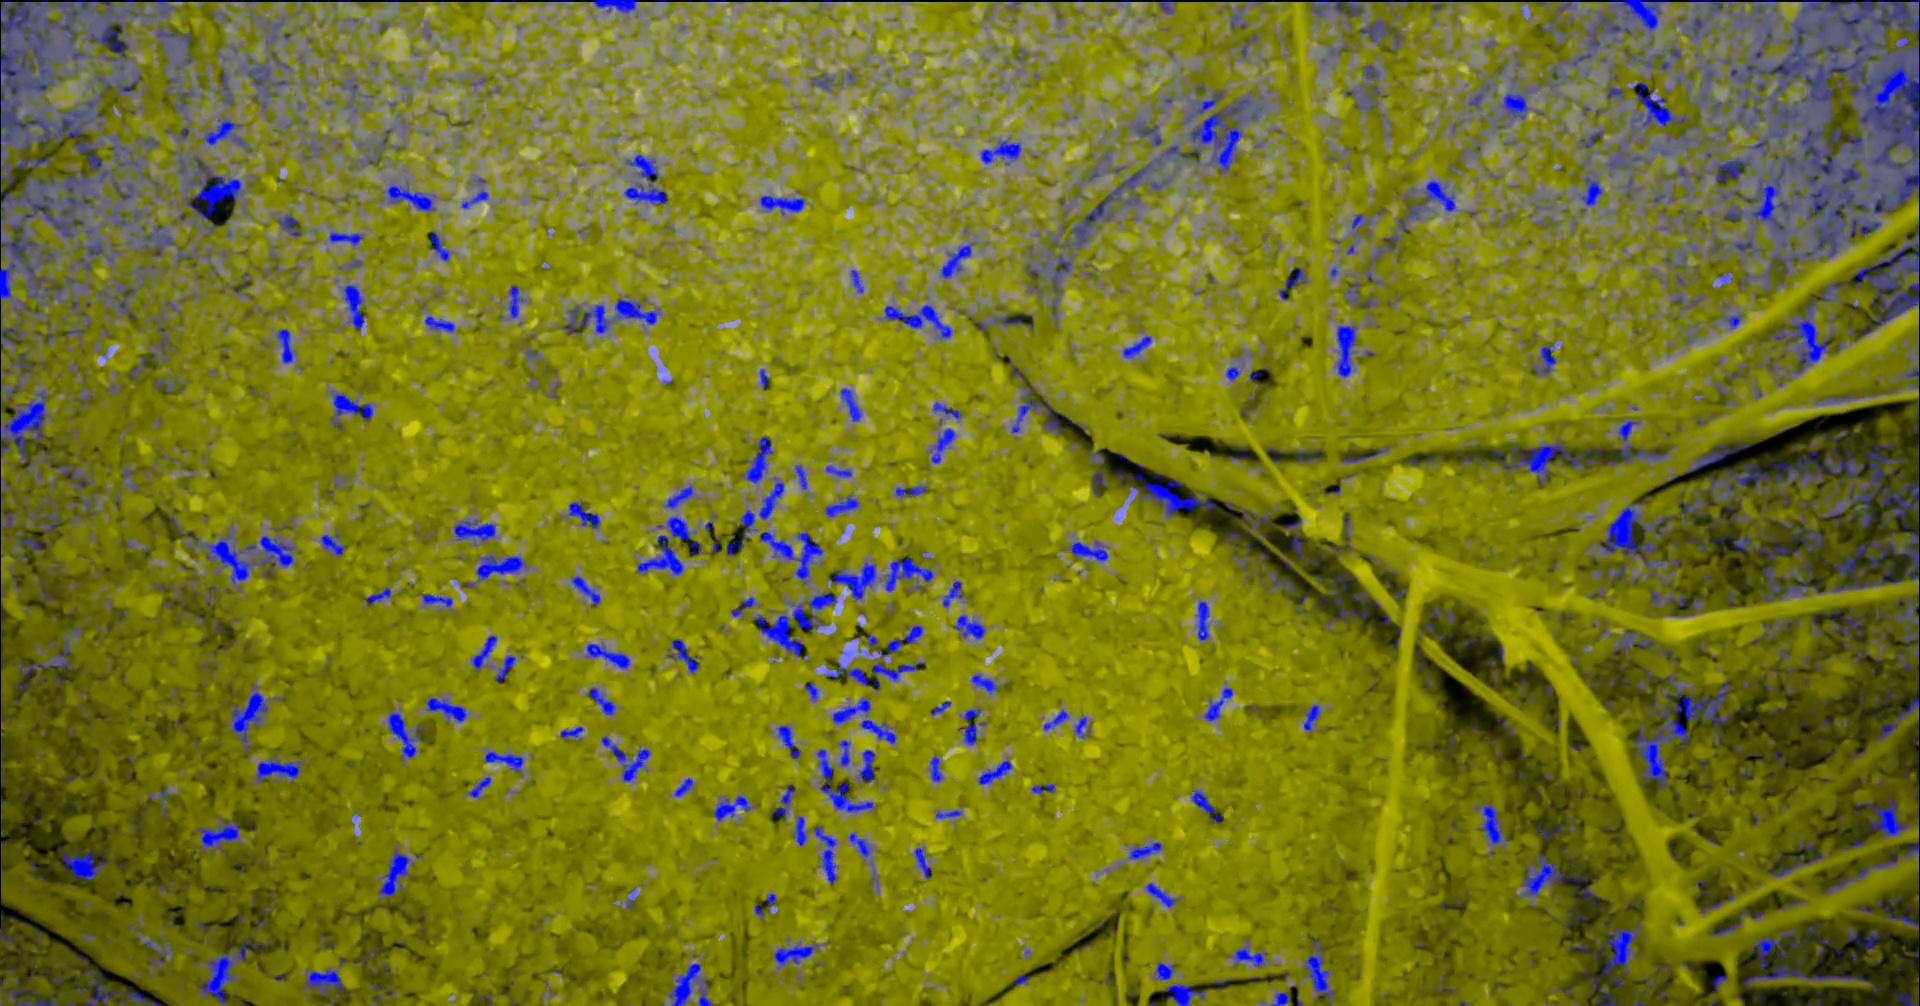ant: (1821, 838, 1919, 894), (1007, 354, 1065, 434), (725, 478, 783, 555), (0, 478, 53, 561), (230, 683, 284, 757), (72, 140, 133, 199), (817, 748, 874, 812), (1873, 592, 1919, 671), (1599, 418, 1674, 465), (15, 625, 83, 677), (759, 531, 823, 583), (825, 658, 924, 690), (72, 969, 160, 1005), (1397, 180, 1457, 231), (830, 697, 897, 743), (1768, 833, 1829, 876), (1629, 83, 1688, 127), (883, 304, 952, 339), (599, 735, 650, 781), (1854, 796, 1911, 837), (1611, 627, 1677, 662), (623, 152, 667, 205), (1304, 937, 1335, 1005), (466, 553, 526, 587), (1323, 570, 1357, 630), (1873, 696, 1919, 741), (1683, 442, 1749, 473), (1683, 0, 1733, 39), (387, 709, 427, 760), (378, 848, 413, 906), (248, 58, 287, 108), (668, 962, 712, 1005), (1821, 608, 1868, 649), (0, 973, 57, 1005), (194, 815, 240, 855), (331, 390, 373, 431), (202, 118, 251, 152), (19, 494, 61, 533), (1787, 513, 1827, 553), (382, 182, 436, 211), (740, 434, 772, 483), (561, 304, 611, 334), (62, 848, 109, 880), (156, 27, 192, 69), (877, 624, 922, 657), (1357, 19, 1403, 51), (130, 225, 175, 257), (1183, 89, 1224, 123), (1476, 801, 1509, 843), (813, 826, 837, 883), (257, 753, 303, 782), (1876, 897, 1919, 929), (302, 967, 345, 998), (1050, 254, 1070, 319), (1578, 969, 1615, 1005), (150, 311, 177, 359), (613, 296, 659, 324), (1697, 61, 1721, 113), (665, 638, 700, 673), (1539, 0, 1578, 30), (76, 239, 113, 271), (1622, 47, 1670, 71), (1279, 518, 1303, 567), (1751, 619, 1799, 643), (452, 518, 495, 545), (1708, 908, 1749, 936), (940, 243, 971, 278), (585, 643, 630, 668), (772, 941, 818, 965), (143, 935, 173, 972), (425, 697, 467, 723), (957, 708, 985, 746), (712, 795, 754, 821), (1336, 325, 1356, 377), (53, 462, 93, 489), (1845, 925, 1879, 955), (980, 138, 1021, 164), (1803, 925, 1830, 963), (1191, 789, 1222, 822), (1203, 687, 1232, 721), (1716, 155, 1752, 182), (1418, 606, 1455, 633), (1369, 234, 1399, 265), (343, 285, 364, 329), (1161, 983, 1205, 1005), (470, 634, 497, 669), (110, 133, 138, 166), (1277, 267, 1305, 300), (1238, 507, 1271, 535), (1498, 90, 1529, 119), (568, 500, 599, 528), (1657, 575, 1685, 607), (1310, 0, 1364, 17), (483, 751, 523, 772), (1261, 568, 1295, 593), (1144, 882, 1178, 907), (930, 428, 954, 464), (570, 575, 599, 605), (952, 614, 985, 639), (1592, 561, 1627, 586), (776, 724, 800, 758), (977, 760, 1011, 784), (1340, 446, 1389, 462), (1891, 976, 1919, 1005), (824, 494, 860, 517), (1069, 541, 1109, 561), (759, 196, 804, 213), (587, 687, 615, 715), (1605, 145, 1630, 175), (1232, 946, 1269, 967), (69, 492, 97, 518), (0, 379, 22, 413), (116, 281, 135, 319), (1730, 235, 1763, 257), (839, 387, 861, 420), (1346, 281, 1373, 307), (1531, 344, 1556, 373), (664, 484, 693, 508), (213, 69, 232, 105), (147, 786, 170, 817), (1666, 124, 1698, 146), (276, 328, 295, 363), (1134, 121, 1162, 145), (1702, 893, 1735, 913), (1580, 177, 1603, 206), (168, 513, 193, 539), (1355, 84, 1379, 111), (66, 310, 90, 337), (1123, 335, 1150, 358), (848, 832, 871, 860), (1230, 542, 1252, 572), (857, 749, 876, 782), (775, 784, 794, 817), (429, 230, 450, 260), (0, 654, 9, 721), (970, 673, 999, 694), (1128, 842, 1163, 859), (320, 532, 344, 556), (277, 213, 302, 236), (1043, 709, 1069, 730), (590, 0, 639, 11), (1195, 601, 1209, 640), (1468, 83, 1490, 108), (370, 983, 395, 1005), (508, 285, 524, 318), (1023, 263, 1041, 293), (424, 315, 455, 333), (942, 580, 963, 607), (913, 847, 931, 878), (350, 948, 381, 965), (1709, 974, 1727, 1005), (10, 352, 33, 375), (932, 401, 961, 419), (1303, 702, 1321, 732), (730, 596, 756, 616), (495, 655, 516, 681), (461, 189, 488, 208), (1681, 531, 1708, 550), (364, 586, 391, 605), (328, 231, 363, 245), (1351, 589, 1379, 607), (1634, 976, 1658, 996), (130, 354, 146, 384), (1815, 392, 1857, 404), (467, 776, 490, 796), (1578, 130, 1603, 149), (1900, 365, 1919, 389), (1537, 821, 1561, 840), (169, 583, 185, 610), (36, 578, 55, 601), (1870, 627, 1890, 650), (1444, 729, 1462, 753), (422, 593, 452, 607), (792, 815, 806, 846), (174, 89, 193, 111), (1550, 65, 1568, 88), (1675, 166, 1702, 182), (928, 754, 943, 781), (1239, 34, 1256, 58), (1091, 471, 1107, 495), (1261, 991, 1289, 1005), (673, 777, 693, 796), (810, 72, 832, 90), (202, 586, 218, 608), (993, 312, 1022, 325), (1114, 467, 1143, 480), (1230, 6, 1246, 30), (895, 485, 927, 497), (1307, 545, 1326, 564), (1154, 962, 1175, 979), (265, 22, 282, 43), (1851, 643, 1868, 664), (1636, 667, 1652, 688), (1873, 688, 1895, 705), (1073, 715, 1090, 737), (1297, 448, 1322, 462), (794, 464, 808, 489), (825, 464, 851, 478), (1343, 513, 1352, 551), (1436, 976, 1454, 995), (850, 269, 863, 293), (1487, 644, 1503, 664), (1721, 206, 1742, 221), (1721, 312, 1742, 328), (930, 700, 951, 715), (560, 727, 583, 741), (1351, 213, 1368, 232), (152, 377, 171, 394), (838, 739, 850, 766), (1818, 716, 1848, 727), (1087, 447, 1105, 464), (108, 210, 127, 225), (1457, 451, 1479, 464), (1778, 644, 1790, 667), (1031, 782, 1055, 794), (1363, 64, 1379, 80), (1688, 598, 1704, 615), (127, 922, 143, 939), (97, 290, 117, 302), (1831, 429, 1851, 442), (805, 681, 818, 701), (1267, 447, 1283, 464), (1606, 85, 1624, 99), (1150, 177, 1170, 189), (0, 929, 13, 948), (935, 809, 961, 818), (1225, 366, 1241, 381), (1810, 614, 1820, 636), (52, 673, 72, 685), (239, 271, 251, 288), (1648, 589, 1661, 607), (17, 681, 34, 694), (759, 368, 770, 390), (152, 880, 174, 890), (342, 79, 357, 93), (1158, 0, 1175, 13), (201, 661, 217, 673), (135, 137, 157, 146), (764, 893, 776, 911), (1015, 973, 1032, 984), (1123, 193, 1139, 205), (1223, 531, 1239, 542), (1669, 46, 1681, 60), (79, 392, 93, 405)
